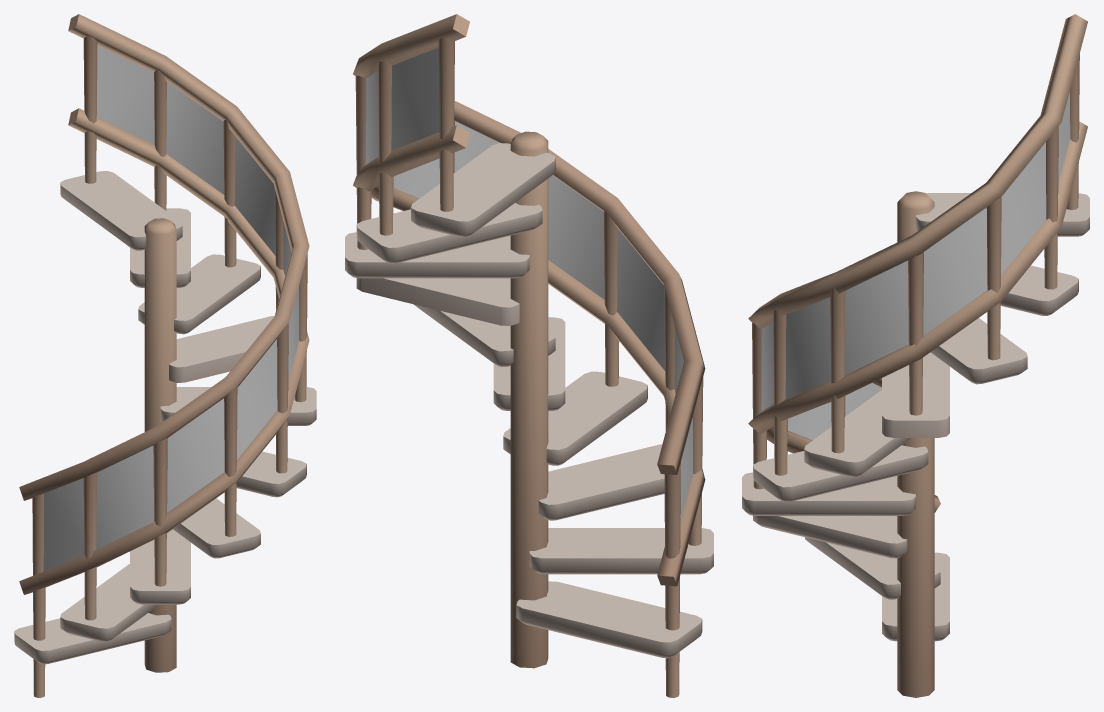
The model's file is stairs-spiral-railing-double.glb.
3 renders of one model, left to right at view 1: azimuth 30°, elevation 25°; view 2: azimuth 150°, elevation 25°; view 3: azimuth 270°, elevation 25°, orthographic. The views are drawn at different scales.
Parts seen in each view (by area): view 1: stairs-spiral-railing-double; view 2: stairs-spiral-railing-double; view 3: stairs-spiral-railing-double.
Boxes of the visible parts, x1,y1,x2,y2 form: stairs-spiral-railing-double: (14, 14, 316, 697); stairs-spiral-railing-double: (345, 14, 713, 697); stairs-spiral-railing-double: (742, 14, 1089, 697).
Bounding box in the file's own units: 1.5 × 3.2 × 1.5.
